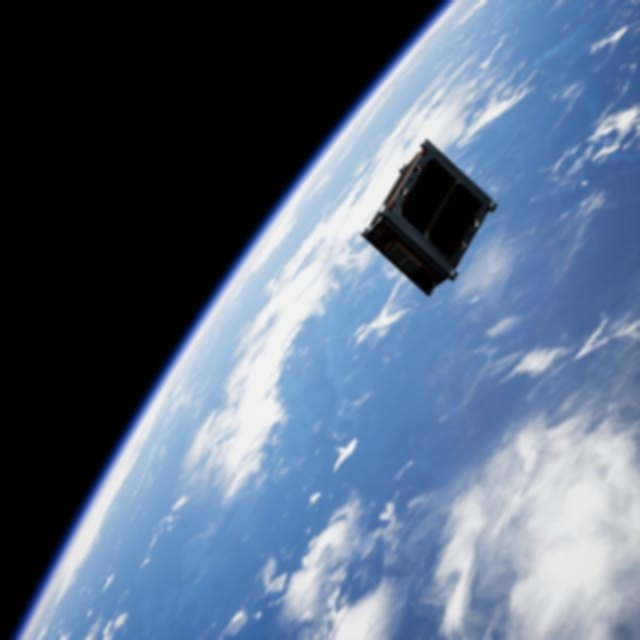satellite: (355, 137, 498, 297)
